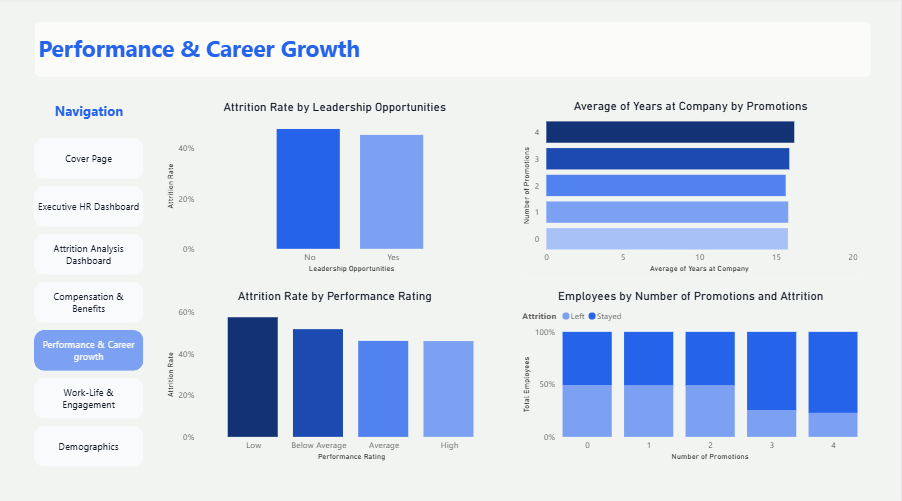

Layout of this report page (visuals, bound fields, positions):
{"tool":"powerbi","page":{"name":"Performance & Career growth","canvas":[1280,720],"ordinal":4},"visuals":[{"type":"textbox","box":[50.9,33.4,1186.6,79.5],"z":0},{"type":"pageNavigator","box":[51.7,200,155,466.7],"z":1000},{"type":"columnChart","fields":{"Category":["HR-Employee.Leadership Opportunities"],"Y":["HR-Employee.Attrition Rate"]},"box":[229.8,141.9,493.4,258.2],"z":2000},{"type":"columnChart","fields":{"Category":["HR-Employee.Performance Rating"],"Y":["HR-Employee.Attrition Rate"]},"box":[229.8,409.6,493.4,256.8],"z":3000},{"type":"clusteredBarChart","title":"Average of Years at Company by Promotions","fields":{"Category":["HR-Employee.Number of Promotions"],"Y":["Avg(HR-Employee.Years at Company)"]},"box":[734,140.6,493.4,259.5],"z":4000},{"type":"hundredPercentStackedColumnChart","title":"Employees by Number of Promotions and Attrition","fields":{"Series":["HR-Employee.Attrition"],"Category":["HR-Employee.Number of Promotions"],"Y":["HR-Employee.Total Employees"]},"box":[734,409.6,493.4,256.8],"z":5000},{"type":"textbox","box":[58.3,140,141.7,43.3],"z":6000}]}

Visuals, with their boxes in screenshot pixels (x1, y1, x2, y2), scaled from the page's 1280x720 canvas onto the 902x501 screenshot:
textbox: <region>36, 23, 872, 79</region>
pageNavigator: <region>36, 139, 146, 464</region>
columnChart - HR-Employee.Leadership Opportunities x HR-Employee.Attrition Rate: <region>162, 99, 510, 278</region>
columnChart - HR-Employee.Performance Rating x HR-Employee.Attrition Rate: <region>162, 285, 510, 464</region>
"Average of Years at Company by Promotions" clusteredBarChart: <region>517, 98, 865, 278</region>
"Employees by Number of Promotions and Attrition" hundredPercentStackedColumnChart: <region>517, 285, 865, 464</region>
textbox: <region>41, 97, 141, 128</region>
